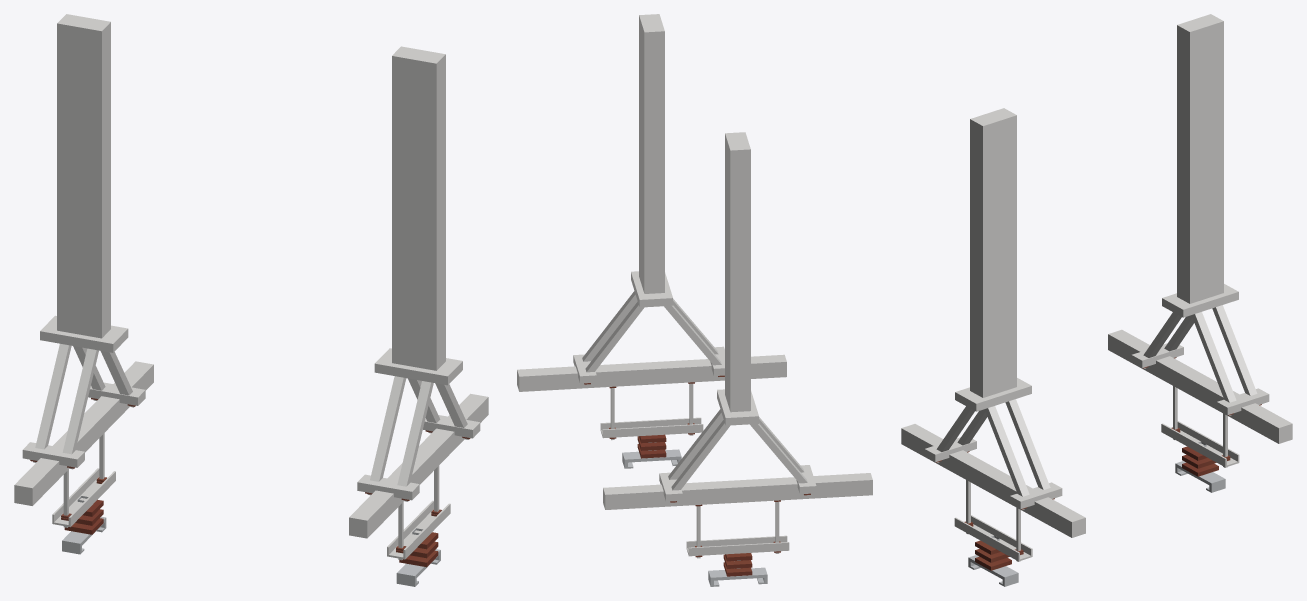
The model's file is catenary_rigid_0d_45d_p.obj.
3 views of the same model, side by side, from view 1: azimuth 30°, elevation 25°; view 2: azimuth 150°, elevation 25°; view 3: azimuth 270°, elevation 25° (orthographic). The views are drawn at different scales.
Parts seen in each view (by area): view 1: rigid_catenary_node.002, rigid_catenary_node.001; view 2: rigid_catenary_node.001, rigid_catenary_node.002; view 3: rigid_catenary_node.001, rigid_catenary_node.002.
Part boxes in pixels (x1,y1,x2,y2): rigid_catenary_node.002: (349, 46, 488, 586); rigid_catenary_node.001: (14, 14, 153, 554); rigid_catenary_node.001: (603, 132, 872, 586); rigid_catenary_node.002: (517, 14, 786, 468); rigid_catenary_node.001: (1108, 14, 1292, 492); rigid_catenary_node.002: (901, 108, 1085, 586).
Bounding box in the file's own units: 1.62 × 1.8 × 1.4.
Materials: 2 (2 with a texture image).
